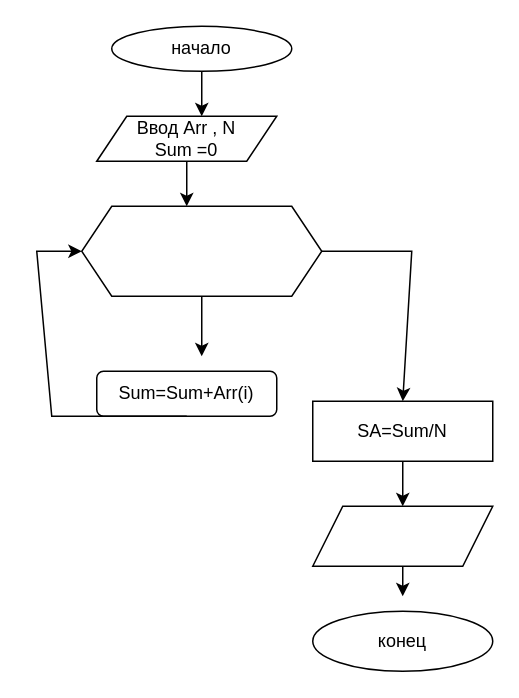
This 519x698 diagram has some shape labels left out. The shapes that lost their labels are listed below. From the top down, each one's centre as x and y in pixels, then its label:
At point 201,250: "i=0 N-1 i=i+1".
At point 402,535: "вывод SA".
